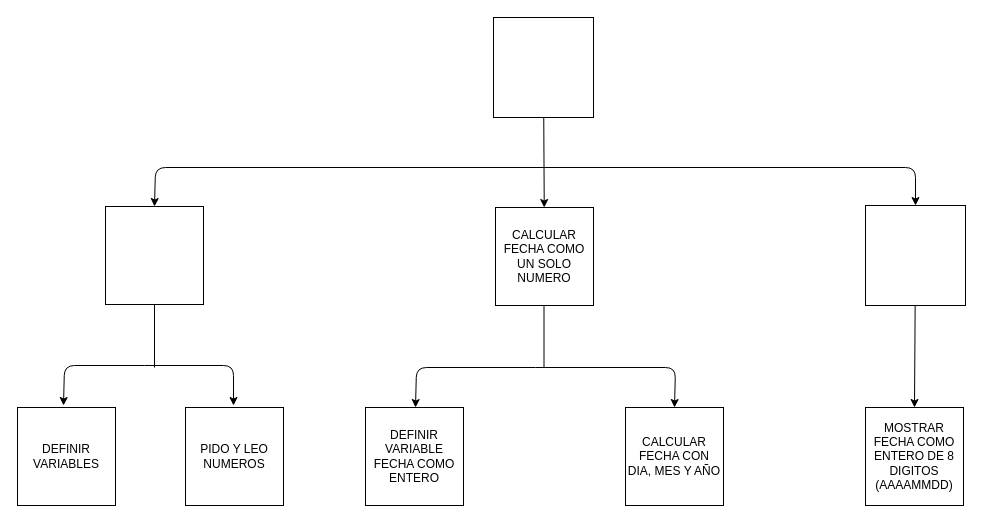
This 983x523 diagram has some shape labels left out. Each missing label, with the centre of its shape:
"EJERCICIO 3" belongs at point 543,67.
"MOSTRAR RESULTADOS" belongs at point 915,255.
"PEDIR NUMEROS DE LA FECHA (DIA, MES, AÑO)" belongs at point 154,255.
